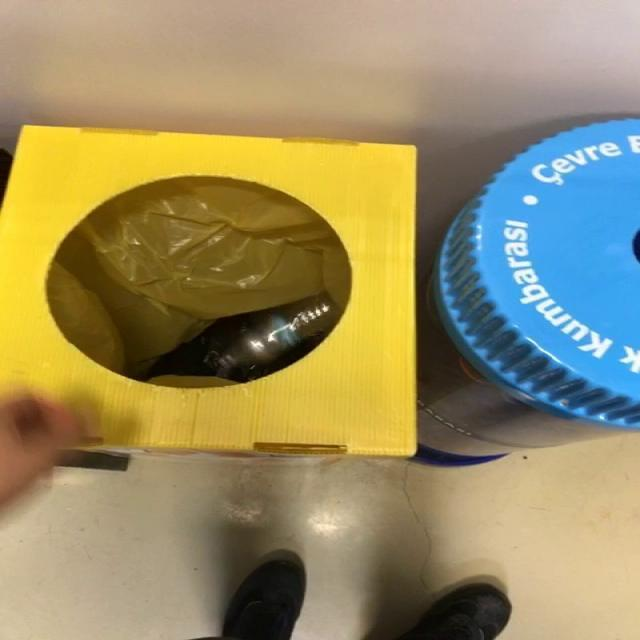Plastic: (217, 297, 341, 364)
